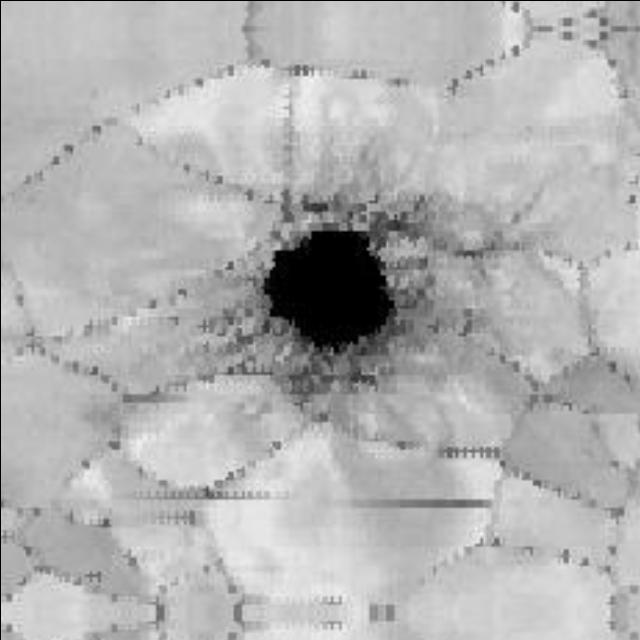good_void: (197, 158, 466, 431)
